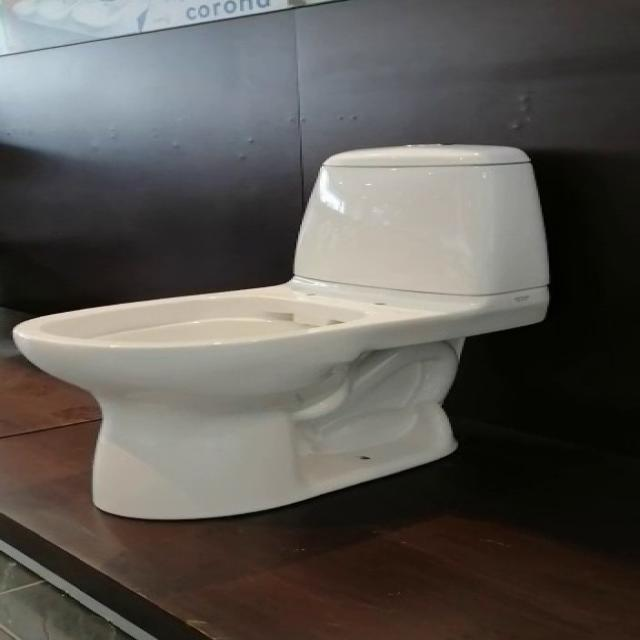toilet: (9, 136, 561, 526)
